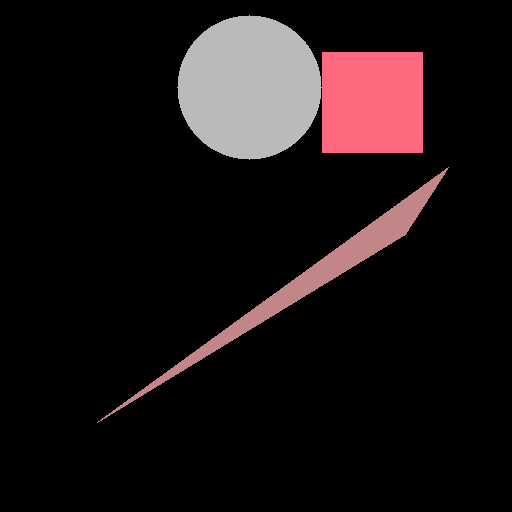circle: (182, 15, 422, 154)
triangle: (97, 167, 448, 422)
